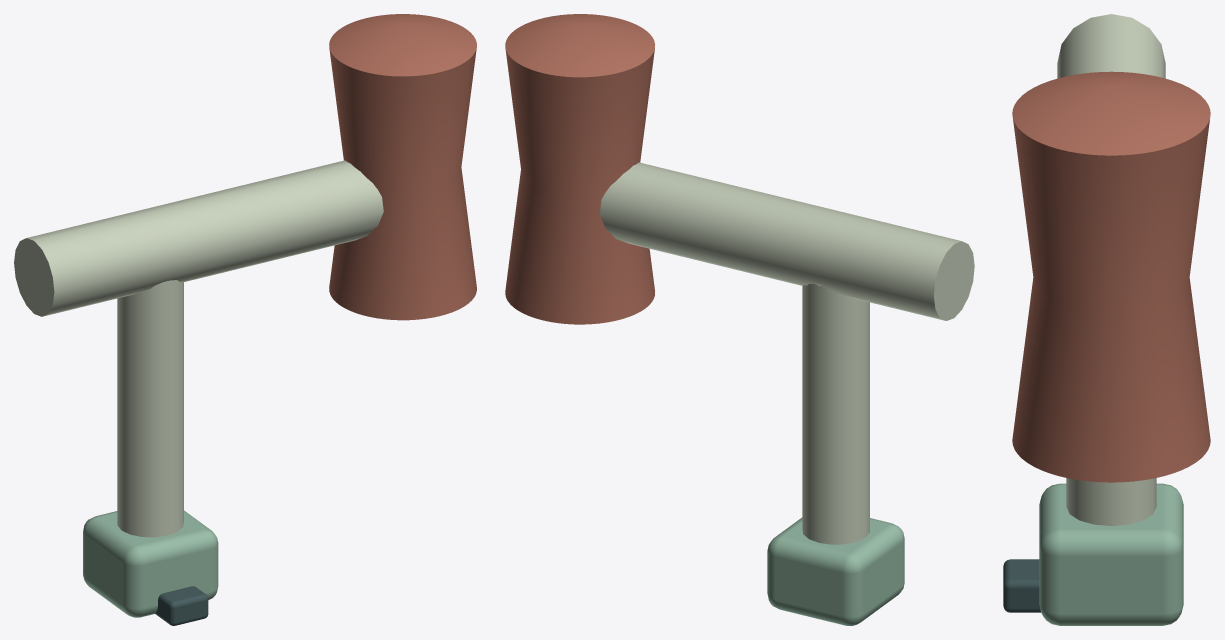
The model's file is enchanted-harp-garden-and-music-sanctuary-harp-tuning--a19e010c__30404.glb.
3 renders of one model, left to right at view 1: azimuth 30°, elevation 25°; view 2: azimuth 150°, elevation 25°; view 3: azimuth 270°, elevation 25°, orthographic. The views are drawn at different scales.
Parts seen in each view (by area): view 1: harp-tuning-key; view 2: harp-tuning-key; view 3: harp-tuning-key.
Part boxes in pixels (<box>): harp-tuning-key: <box>14,14,476,625</box>; harp-tuning-key: <box>505,14,974,625</box>; harp-tuning-key: <box>1003,14,1210,625</box>.
Size of the model in its own units: 0.223 by 0.25 by 0.069.
